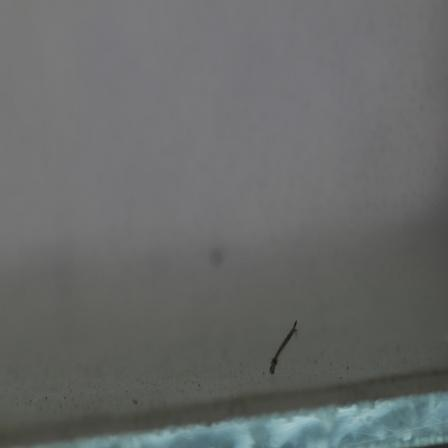Jentik-Nyamuk: (265, 316, 303, 377)
